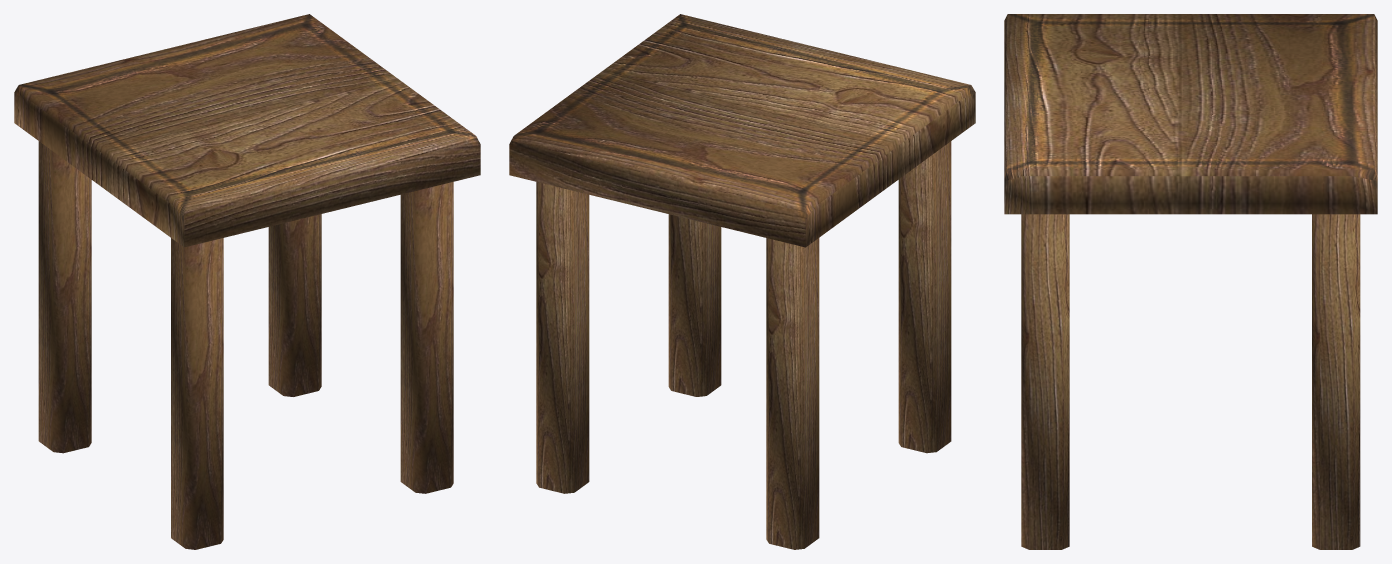
File: Chair_2.FBX
3 views of the same model, side by side, from view 1: azimuth 30°, elevation 25°; view 2: azimuth 150°, elevation 25°; view 3: azimuth 270°, elevation 25° (orthographic). The views are drawn at different scales.
Parts seen in each view (by area): view 1: Chair_2; view 2: Chair_2; view 3: Chair_2.
Boxes of the visible parts, x1=… form: Chair_2: x1=14, y1=14, x2=480, y2=549; Chair_2: x1=509, y1=14, x2=975, y2=549; Chair_2: x1=1004, y1=14, x2=1377, y2=549.
Bounding box in the file's own units: 0.4111 × 0.466 × 0.408.
